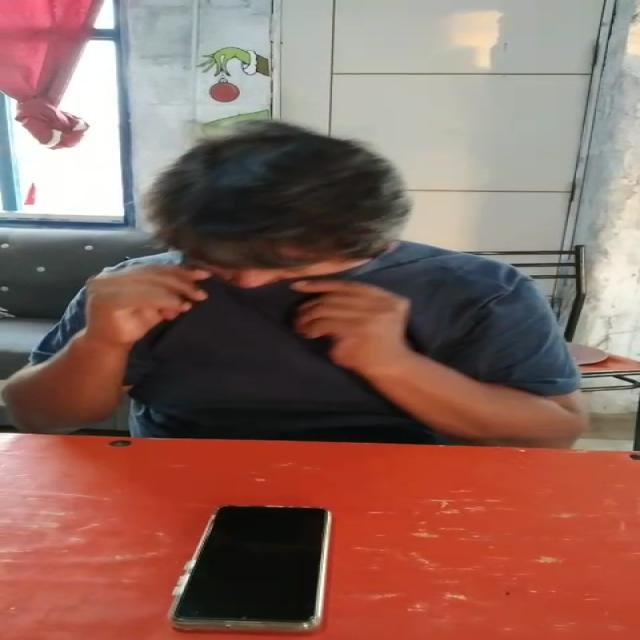8_ropa_rostro: (78, 259, 450, 350)
